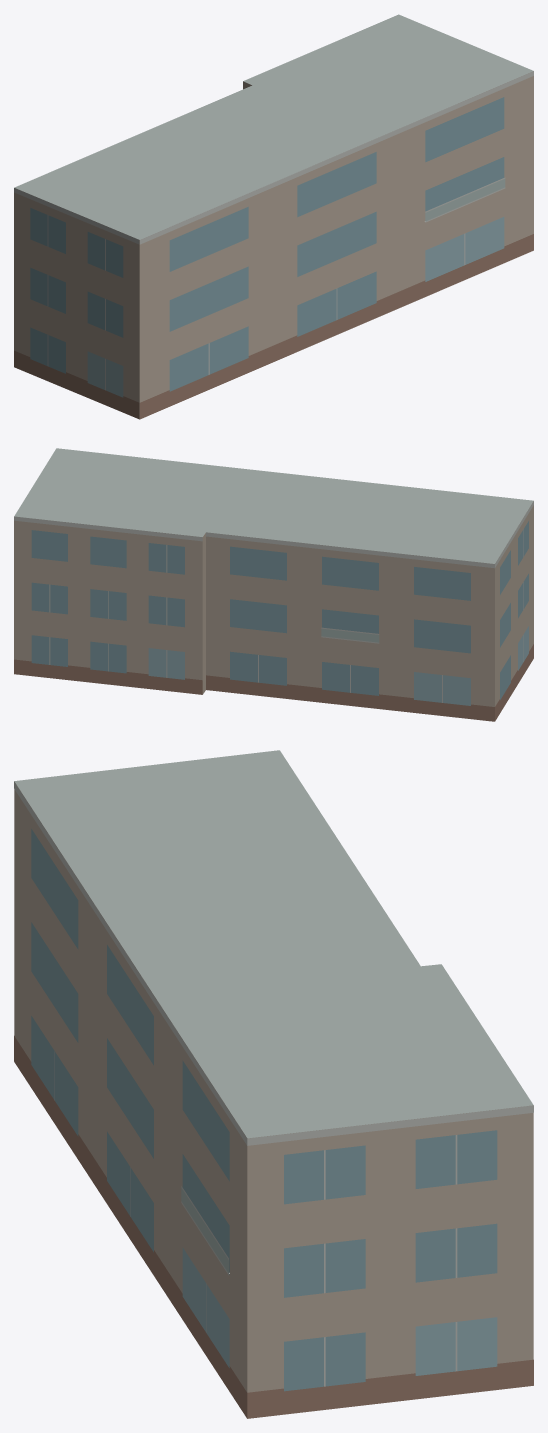
The model's file is survey-upis-33046391.glb.
The picture shows the model from 3 angles, top to bottom: view 1: azimuth 30°, elevation 25°; view 2: azimuth 150°, elevation 25°; view 3: azimuth 270°, elevation 25°; orthographic projection. The views are drawn at different scales.
Parts seen in each view (by area): view 1: survey-upis-33046391.tmp; view 2: survey-upis-33046391.tmp; view 3: survey-upis-33046391.tmp.
Part boxes in pixels (box(x1,y1,x2,y2)): survey-upis-33046391.tmp: box(14, 14, 533, 419); survey-upis-33046391.tmp: box(14, 448, 533, 721); survey-upis-33046391.tmp: box(14, 750, 533, 1418).
Size of the model in its own units: 27.18 by 9.15 by 15.38.
